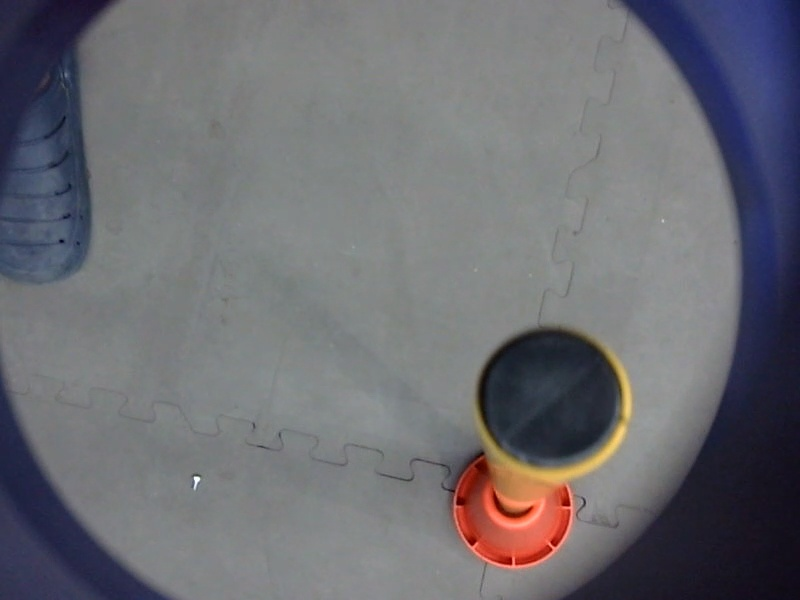tip: (459, 319, 641, 489)
